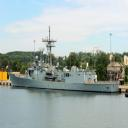Fragata: (7, 22, 122, 95)
